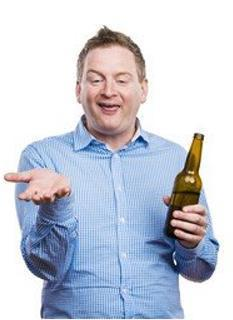Drunk: (82, 48, 141, 128)
